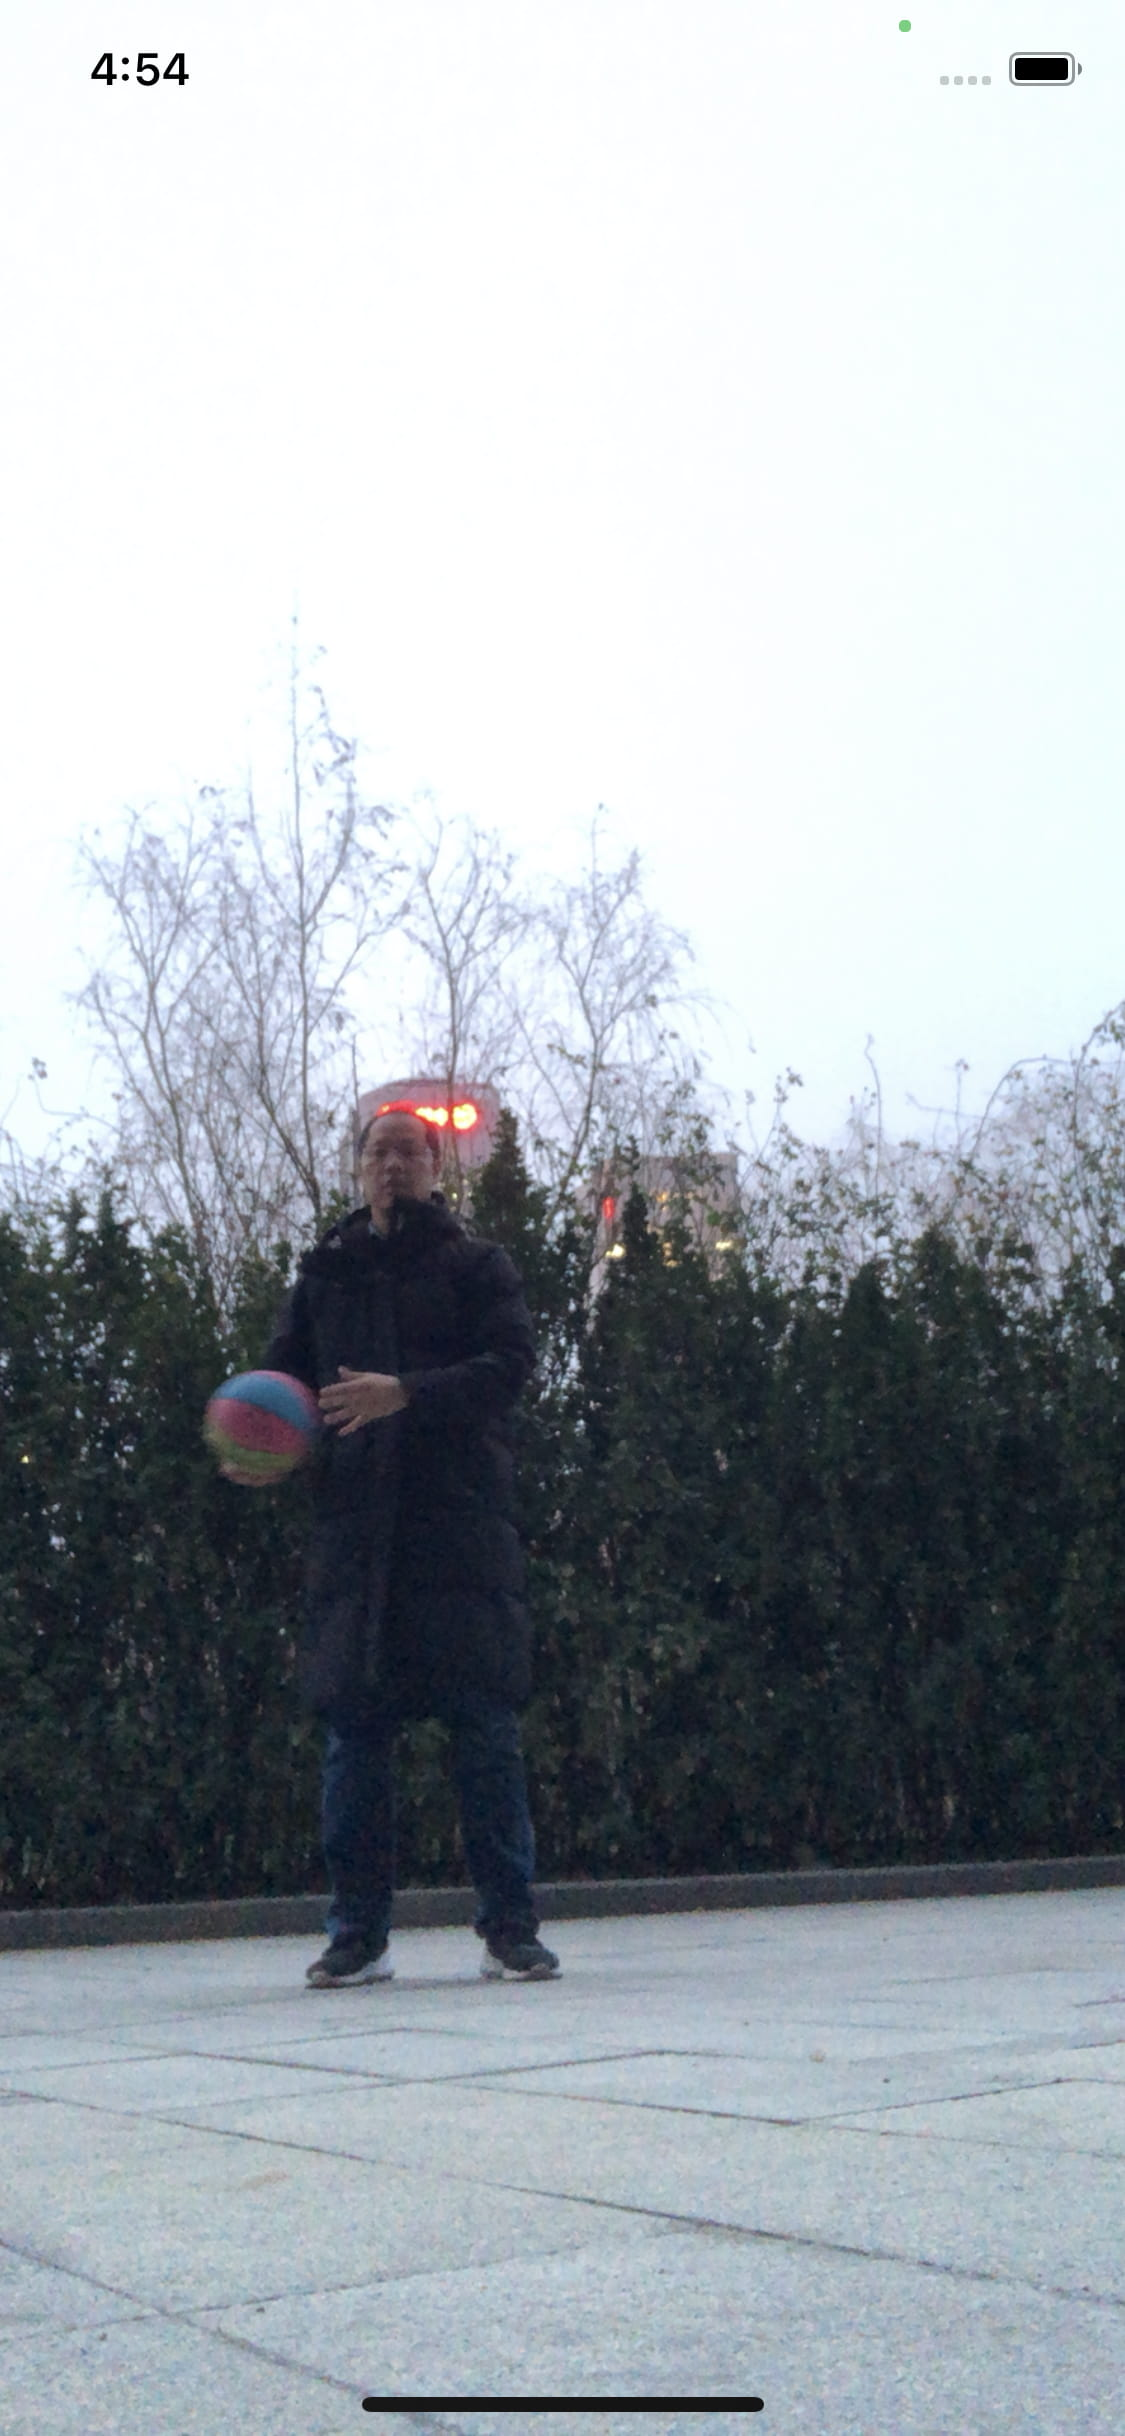ball: (205, 1373, 325, 1488)
